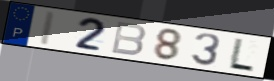2: (73, 17, 108, 54)
3: (190, 32, 222, 67)
8: (152, 27, 184, 62)
B: (109, 20, 148, 58)
I: (37, 10, 59, 47)
L: (226, 37, 256, 74)
